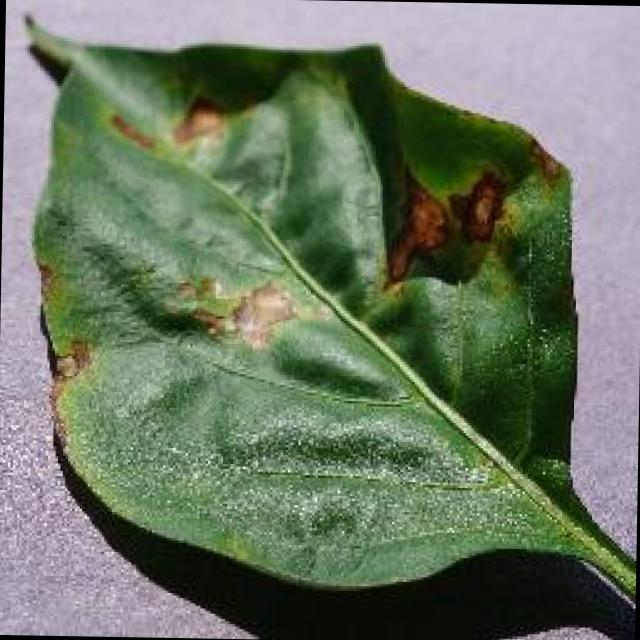Chilli_Bacterial_Spot: (15, 17, 592, 597), (378, 161, 510, 291), (167, 270, 301, 355), (378, 176, 452, 287), (227, 276, 298, 352), (170, 270, 240, 341), (454, 168, 508, 248), (397, 184, 452, 255), (168, 95, 229, 149), (103, 106, 159, 154), (49, 335, 95, 381)
